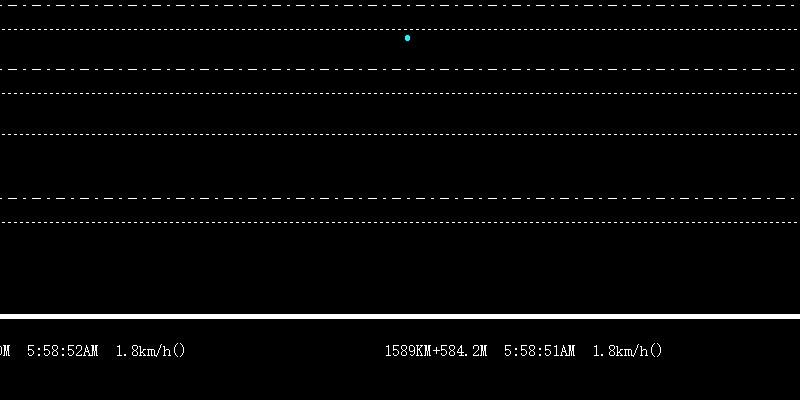face_down: (401, 25, 412, 42)
